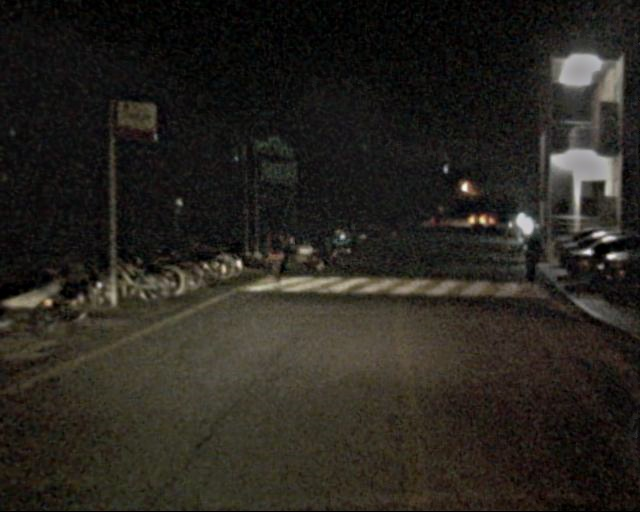person: (514, 229, 542, 298), (258, 222, 285, 288), (306, 221, 325, 268)
